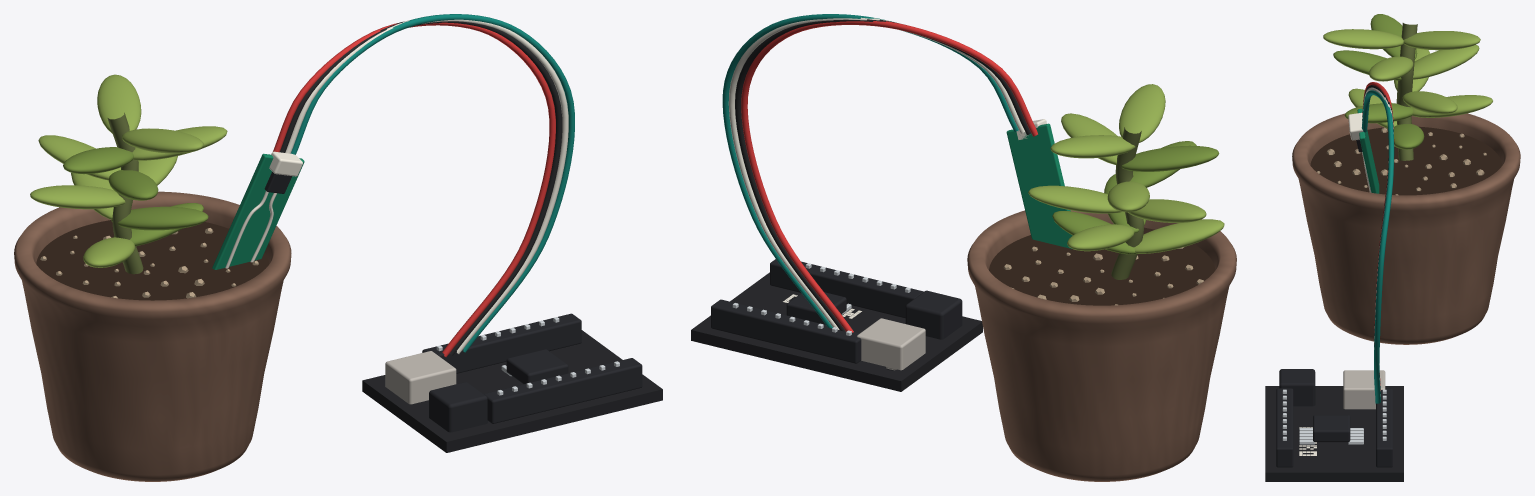
Rendered from sensors-27.glb.
The picture shows the model from 3 angles, left to right: view 1: azimuth 30°, elevation 25°; view 2: azimuth 150°, elevation 25°; view 3: azimuth 270°, elevation 25°; orthographic projection. The views are drawn at different scales.
Visible parts, largest first — view 1: pot, circuit, plant, cable, soil, probe-pcb; view 2: pot, circuit, plant, cable, soil, probe-pcb; view 3: pot, circuit, plant, soil, cable, probe-pcb.
Boxes of the visible parts, x1=… form: pot: x1=14, y1=191, x2=291, y2=481; circuit: x1=362, y1=313, x2=662, y2=452; plant: x1=30, y1=74, x2=227, y2=274; cable: x1=273, y1=14, x2=574, y2=357; soil: x1=36, y1=220, x2=269, y2=300; probe-pcb: x1=212, y1=151, x2=304, y2=269; pot: x1=967, y1=210, x2=1236, y2=481; circuit: x1=691, y1=259, x2=982, y2=391; plant: x1=1028, y1=84, x2=1224, y2=279; cable: x1=722, y1=14, x2=1037, y2=332; soil: x1=989, y1=227, x2=1215, y2=305; probe-pcb: x1=1006, y1=119, x2=1072, y2=249; pot: x1=1292, y1=113, x2=1520, y2=344; circuit: x1=1265, y1=369, x2=1403, y2=481; plant: x1=1323, y1=14, x2=1492, y2=160; soil: x1=1310, y1=126, x2=1502, y2=195; cable: x1=1361, y1=82, x2=1394, y2=403; probe-pcb: x1=1348, y1=108, x2=1379, y2=193.
Bounding box in the file's own units: 3.32 × 2.17 × 1.64.
